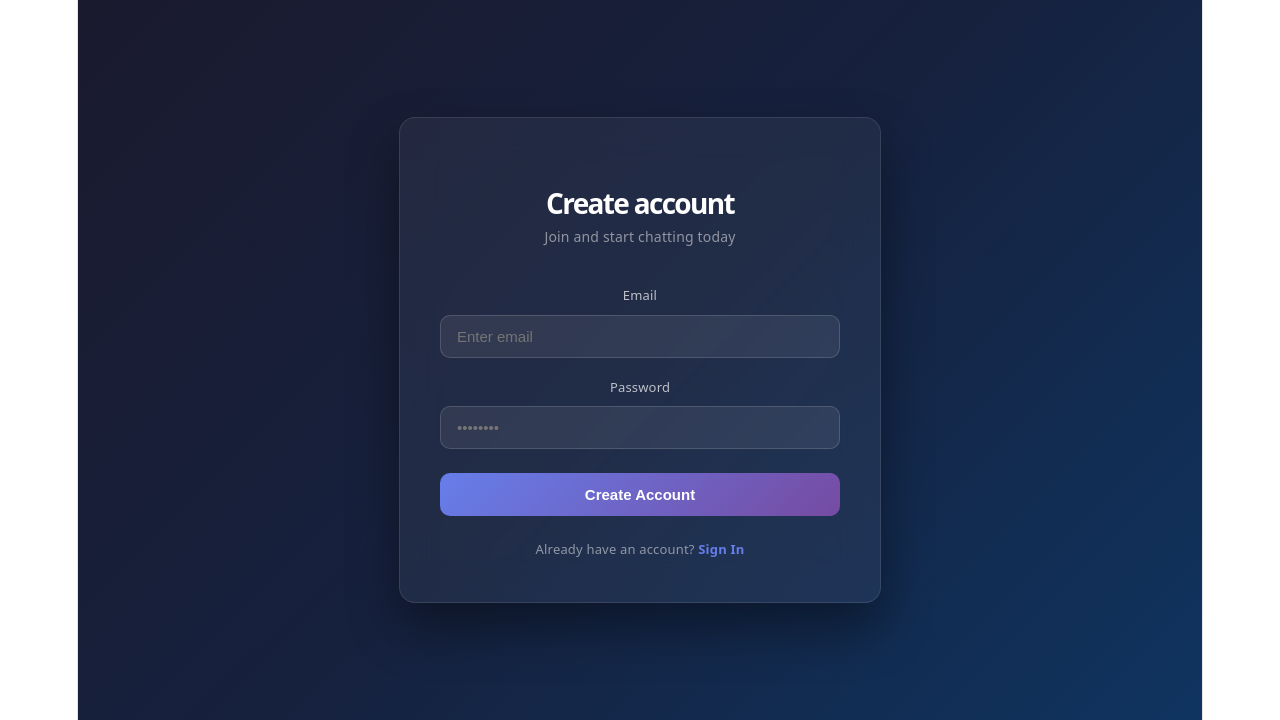
Test: Signup Component › shows error when fields are empty
The image size is (1280, 720).
Click the button "Create Account": (640, 494) top-left (440, 473), bottom-right (840, 516)
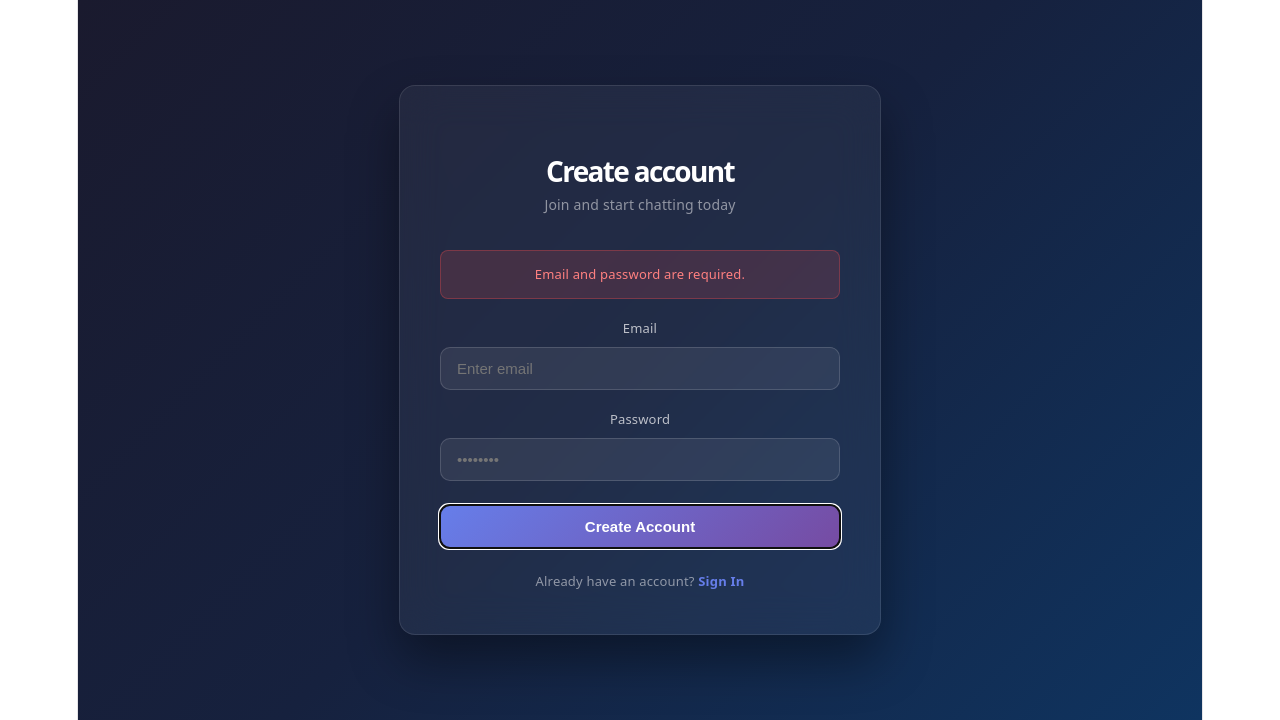
Result: the text "Email and password are required." is shown at top-left (440, 250), bottom-right (840, 298)
